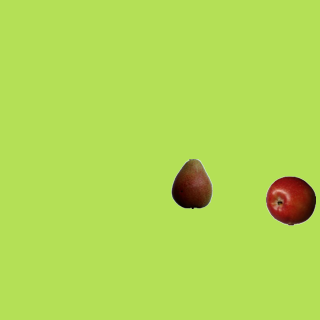Apple Braeburn: (265, 175, 315, 225)
Pear Forelle: (166, 158, 216, 208)
